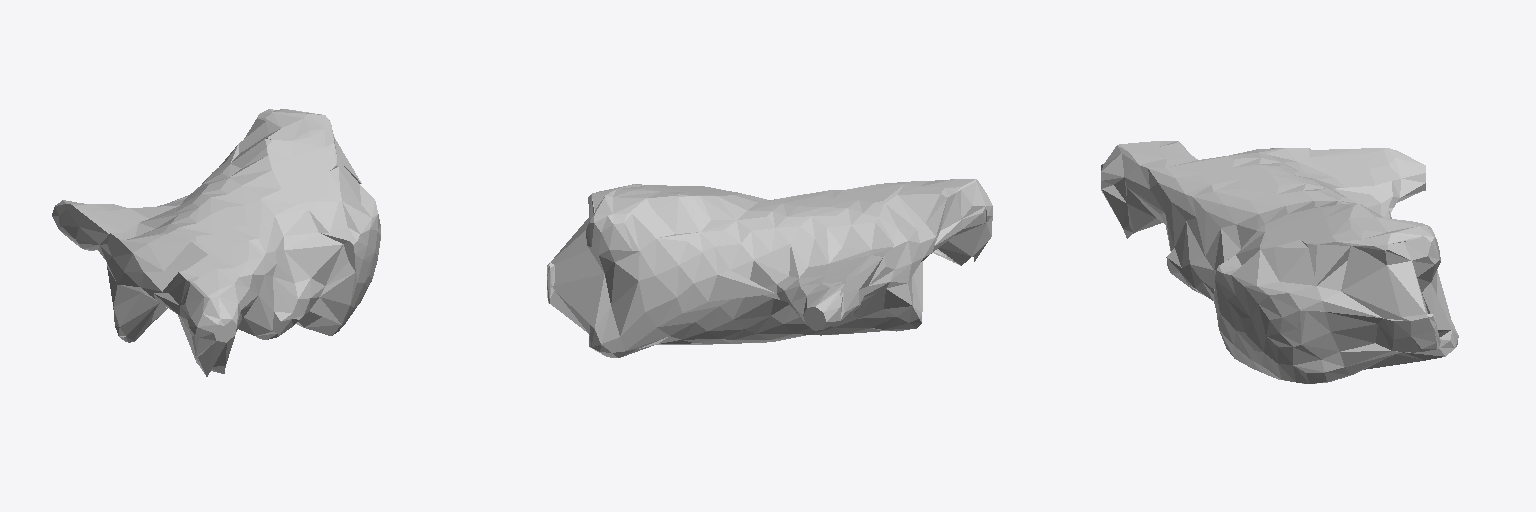
Rendered from sim_ecub_r_hand_thumb_1.obj.
The picture shows the model from 3 angles: view 1: azimuth 30°, elevation 25°; view 2: azimuth 150°, elevation 25°; view 3: azimuth 270°, elevation 25°; orthographic projection.
Size of the model in its own units: 49.96 by 25.13 by 52.87.